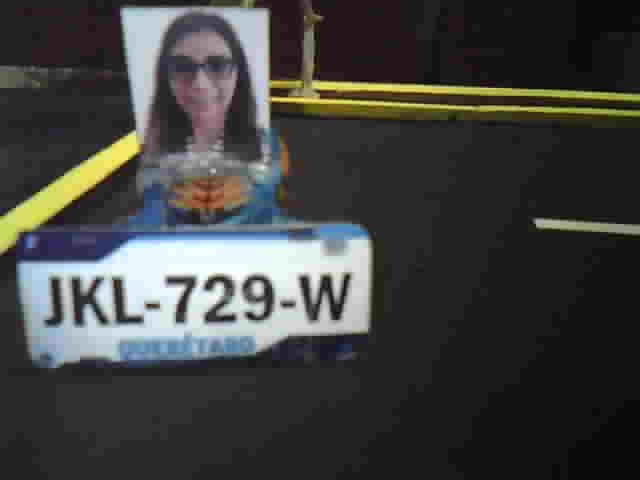PLACA: (11, 221, 378, 370)
ROSTRO: (140, 12, 271, 170)
